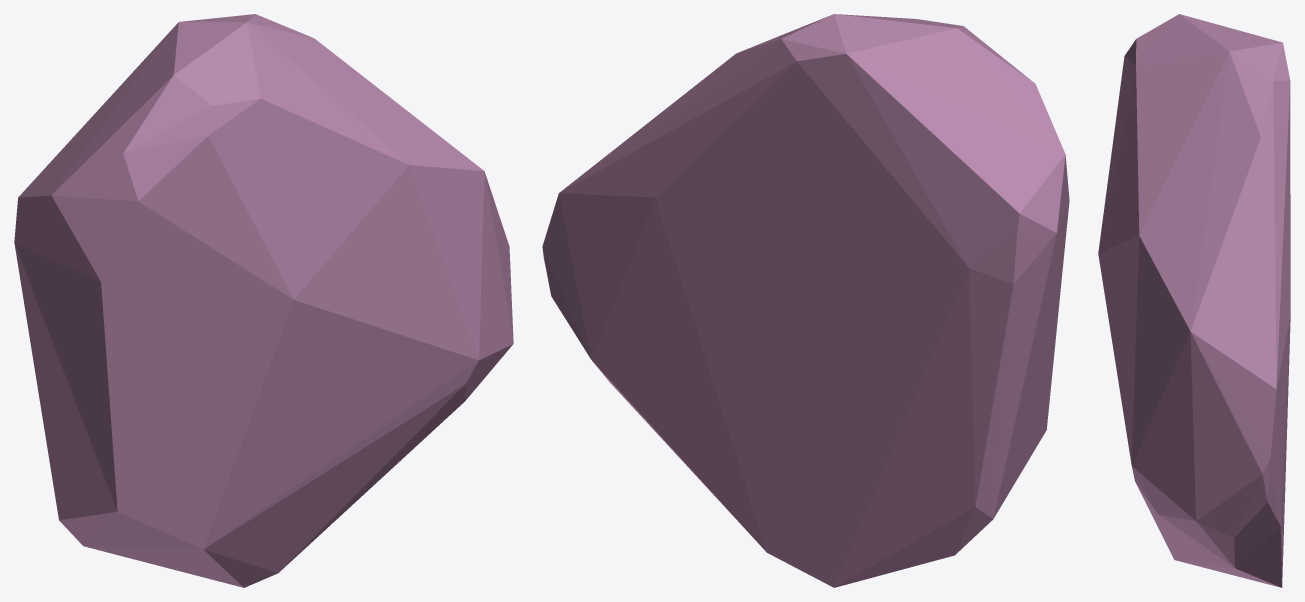
The model's file is food_prepared_bread_heartSweetRoll_a01.glb.
3 views of the same model, side by side, from view 1: azimuth 30°, elevation 25°; view 2: azimuth 150°, elevation 25°; view 3: azimuth 270°, elevation 25° (orthographic). The views are drawn at different scales.
Parts seen in each view (by area): view 1: geometry_0; view 2: geometry_0; view 3: geometry_0.
Part boxes in pixels (x1=…): geometry_0: x1=14, y1=14, x2=513, y2=587; geometry_0: x1=542, y1=14, x2=1069, y2=587; geometry_0: x1=1098, y1=14, x2=1290, y2=587.
Bounding box in the file's own units: 0.4489 × 0.472 × 0.1534.
